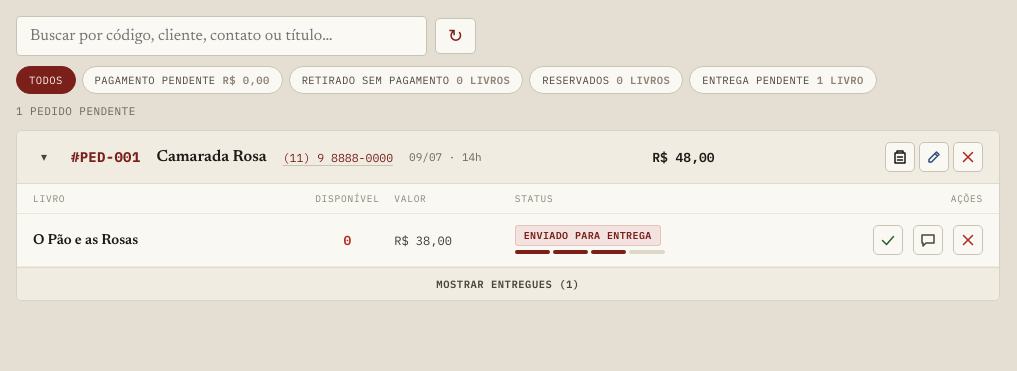
Test: Backoffice — Pedidos (linhas por unidade) › unidade retirada e paga é finalizada: pill Entregue, sem ações de pagamento/desfazer
Expected: the text "Camarada Rosa" is shown, [156, 149, 267, 165]
Note: finalizada fica recolhida: expande o card pra ver
Click the button "Mostrar entregues (1)": (508, 284) [17, 268, 999, 300]
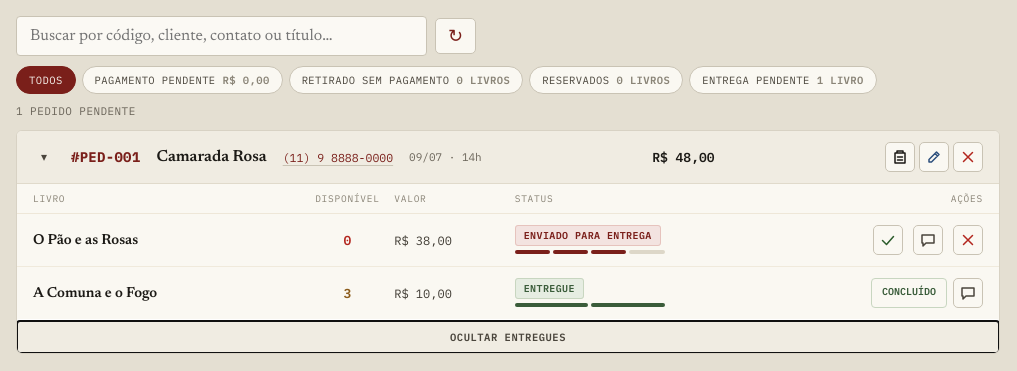
Now the text "Entregue" is shown, box [515, 278, 584, 298]
Now the text "Concluído" is shown, box [871, 278, 947, 308]
